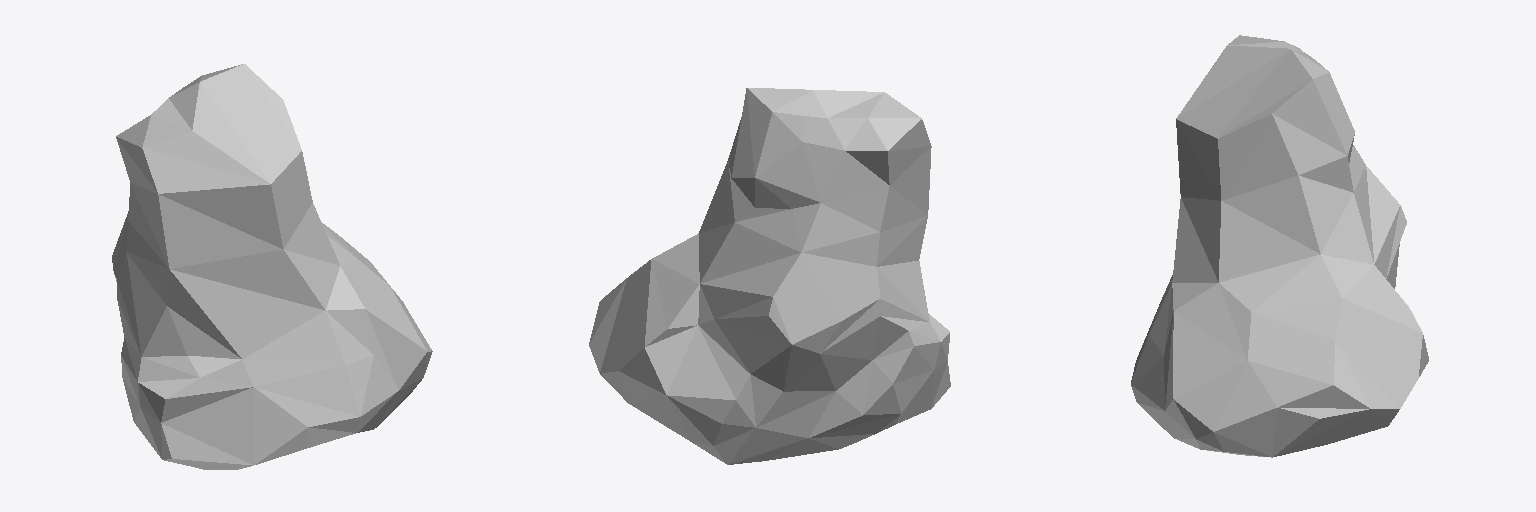
The model's file is Rock3_LowPolyMesh.obj.
3 views of the same model, side by side, from view 1: azimuth 30°, elevation 25°; view 2: azimuth 150°, elevation 25°; view 3: azimuth 270°, elevation 25° (orthographic).
Parts seen in each view (by area): view 1: rock3_LowPolyMesh; view 2: rock3_LowPolyMesh; view 3: rock3_LowPolyMesh.
Boxes of the visible parts, box(x1,y1,x2,y2) form: rock3_LowPolyMesh: box(112, 64, 432, 469); rock3_LowPolyMesh: box(589, 88, 950, 464); rock3_LowPolyMesh: box(1131, 35, 1428, 457).
Size of the model in its own units: 1.76 by 2.11 by 1.57.